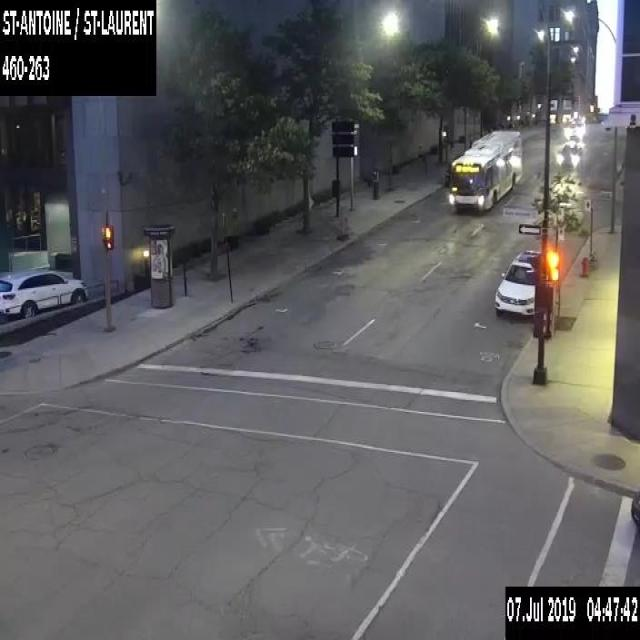bus: (448, 127, 523, 210)
vehicle: (0, 267, 87, 317), (493, 247, 542, 320), (556, 140, 584, 165), (565, 118, 583, 138), (630, 495, 639, 533)
